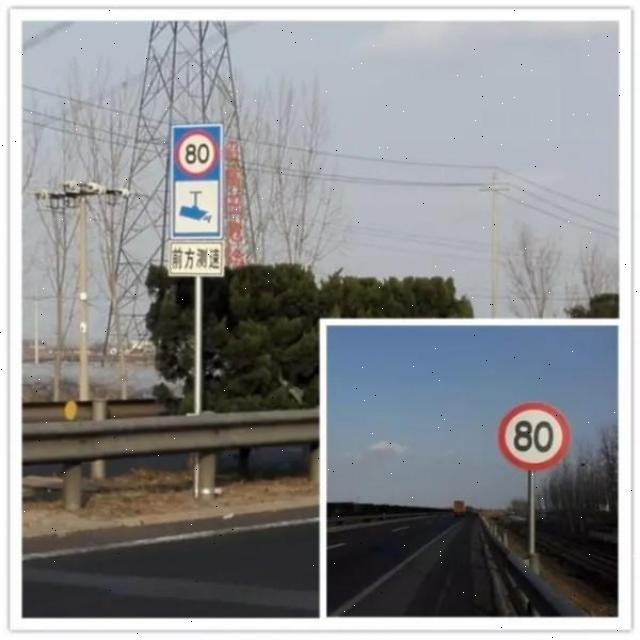speed limit 80: (499, 402, 571, 470), (174, 133, 218, 176)
